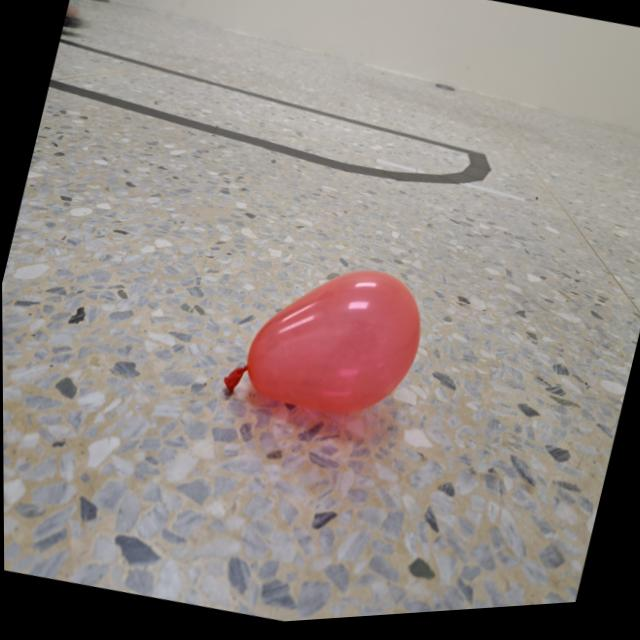red: (216, 240, 437, 455)
